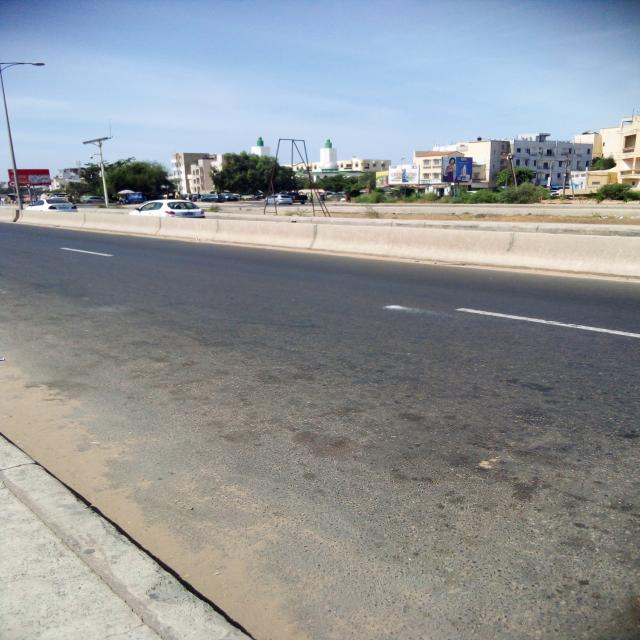particulier: (131, 201, 206, 220), (28, 199, 78, 214), (266, 195, 294, 206), (199, 195, 219, 204), (219, 194, 241, 202)
